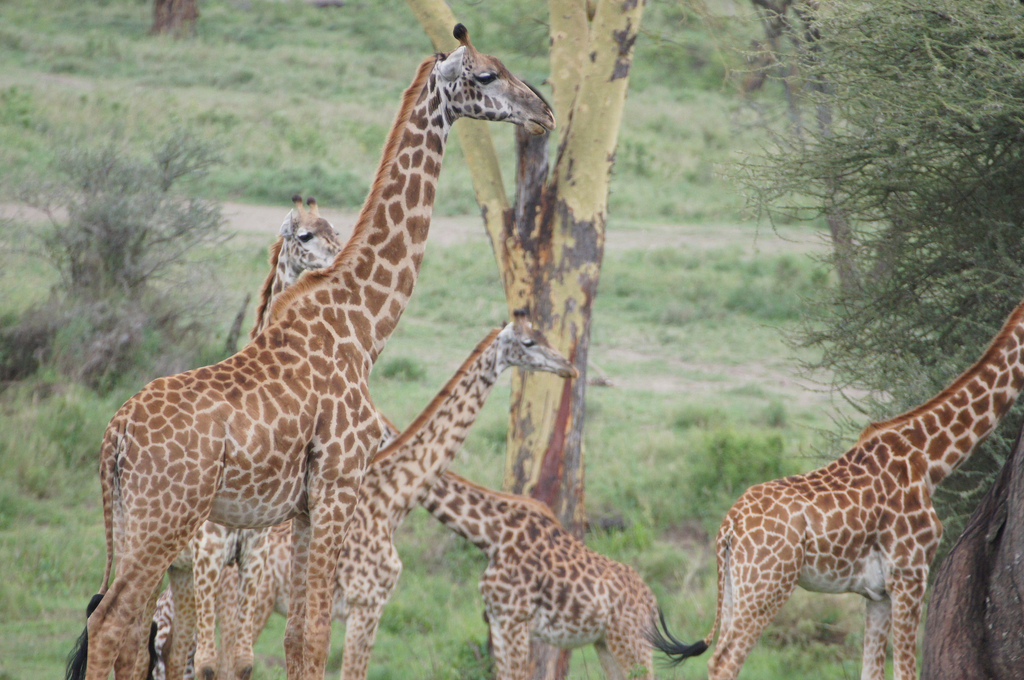giraffe: (111, 22, 561, 647), (214, 296, 590, 659), (689, 290, 1024, 679), (390, 429, 697, 670), (220, 170, 343, 386)
